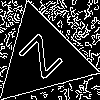Z: (17, 33, 72, 87)
